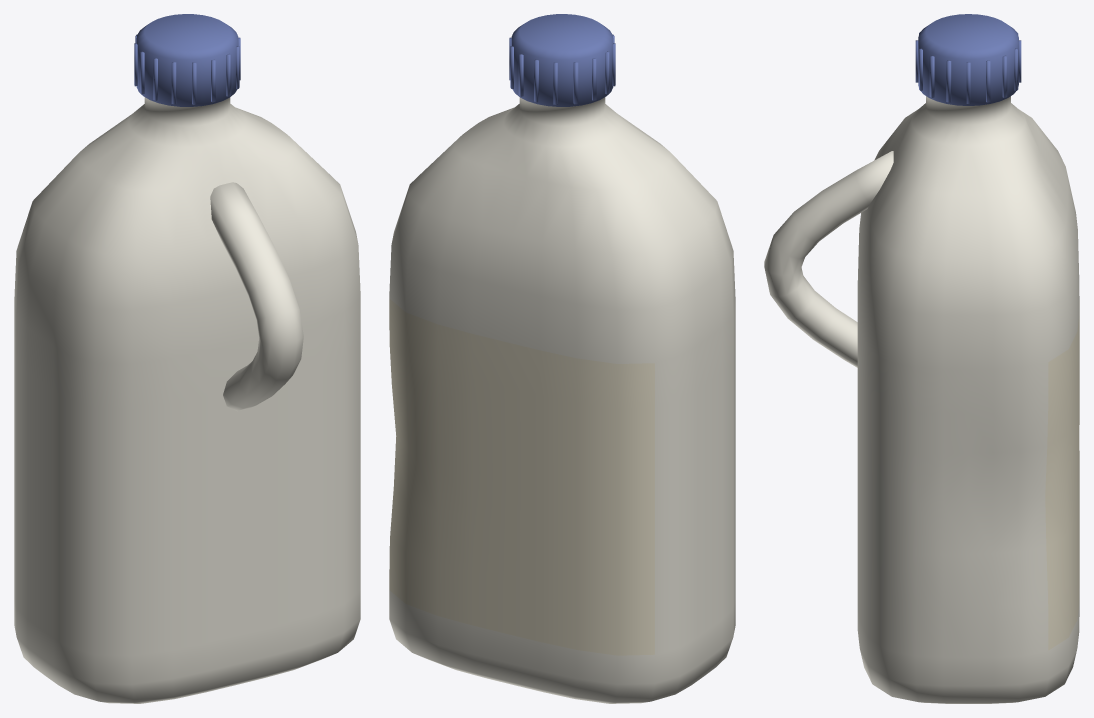
Rendered from js_jug_1.glb.
The picture shows the model from 3 angles, left to right: view 1: azimuth 30°, elevation 25°; view 2: azimuth 150°, elevation 25°; view 3: azimuth 270°, elevation 25°; orthographic projection.
Parts seen in each view (by area): view 1: js_jug_1; view 2: js_jug_1; view 3: js_jug_1.
Boxes of the visible parts, left/top/right/bottom form: js_jug_1: left=14, top=14, right=360, bottom=703; js_jug_1: left=389, top=14, right=735, bottom=703; js_jug_1: left=764, top=14, right=1079, bottom=703.
Size of the model in its own units: 0.15 by 0.301 by 0.1406.
